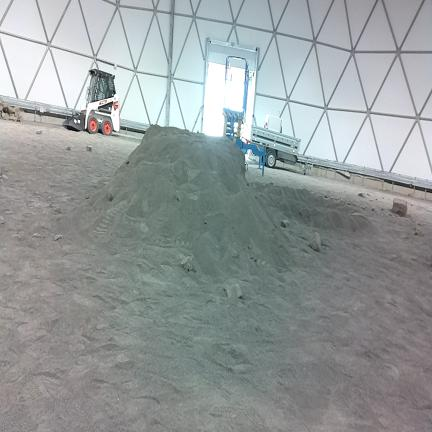Rock: (392, 199, 407, 216), (224, 284, 242, 298), (309, 232, 321, 252), (181, 257, 196, 272), (379, 417, 389, 428), (300, 208, 311, 218), (4, 105, 14, 115), (175, 190, 182, 201), (14, 107, 20, 118), (108, 190, 114, 201), (415, 228, 423, 236), (231, 250, 238, 259), (54, 234, 62, 241), (9, 114, 17, 121), (281, 220, 289, 227), (2, 104, 8, 113), (18, 231, 24, 239), (3, 112, 9, 120), (54, 207, 61, 213), (33, 233, 41, 238), (0, 103, 4, 112), (17, 115, 22, 122), (0, 110, 4, 118), (0, 217, 4, 224), (359, 193, 365, 197), (2, 175, 8, 179), (0, 97, 3, 104), (87, 146, 91, 151), (37, 130, 42, 134), (85, 194, 89, 199), (66, 146, 70, 150), (254, 258, 257, 262), (366, 193, 370, 196), (251, 254, 253, 259), (381, 208, 384, 211), (372, 208, 374, 212)
